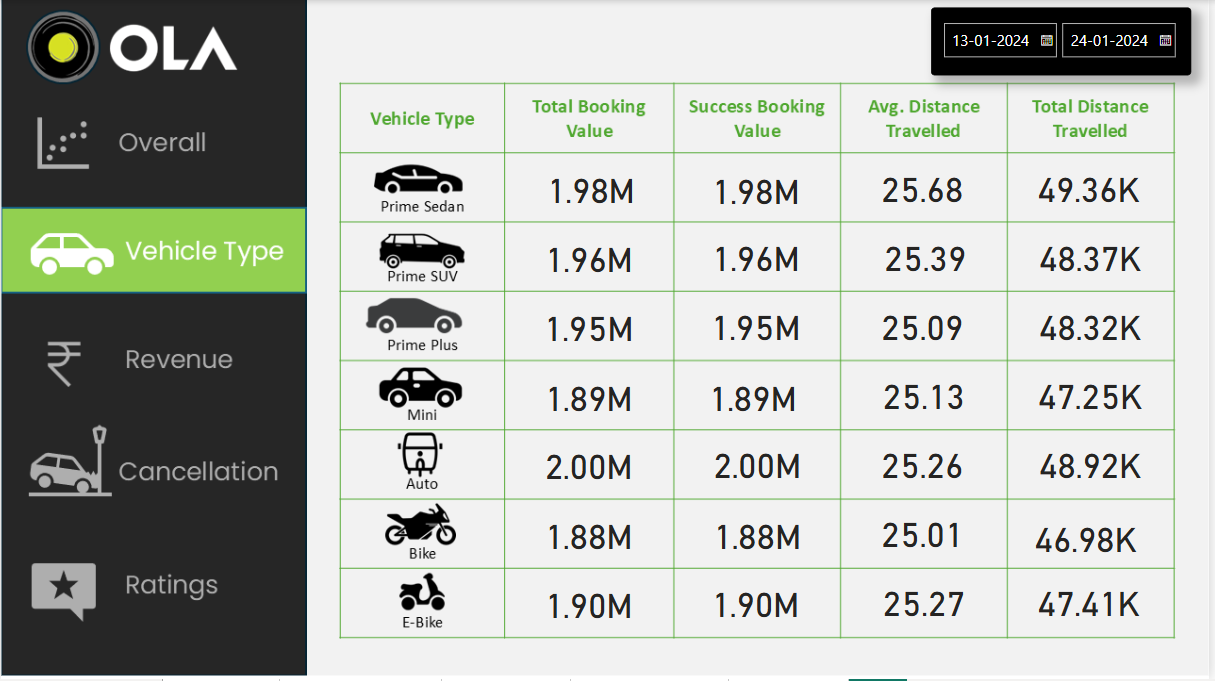

The page's visual inventory and layout, read from the dashboard file:
{"tool":"powerbi","page":{"name":"Vehicle Type","canvas":[1280,720],"ordinal":1},"visuals":[{"type":"actionButton","box":[0,106.7,323.3,90],"z":0},{"type":"actionButton","box":[0,340,323.3,90],"z":1000},{"type":"actionButton","box":[0,446.7,323.3,90],"z":2000},{"type":"actionButton","box":[0,581.7,323.3,90],"z":3000},{"type":"card","fields":{"Values":["Sum(Bengaluru_Ola_Booking_Data.Booking Value)"]},"box":[537.6,165.4,175,66.8],"z":4000},{"type":"card","fields":{"Values":["Sum(Bengaluru_Ola_Booking_Data.Booking Value)"]},"box":[536.7,238.1,173.9,66.1],"z":5000},{"type":"card","fields":{"Values":["Sum(Bengaluru_Ola_Booking_Data.Booking Value)"]},"box":[536,311.8,173.4,66.8],"z":6000},{"type":"card","fields":{"Values":["Sum(Bengaluru_Ola_Booking_Data.Booking Value)"]},"box":[536,386.5,173.4,66.8],"z":7000},{"type":"card","fields":{"Values":["Sum(Bengaluru_Ola_Booking_Data.Booking Value)"]},"box":[536,458.1,173.4,66.8],"z":8000},{"type":"card","fields":{"Values":["Sum(Bengaluru_Ola_Booking_Data.Booking Value)"]},"box":[536,532.9,173.4,66.8],"z":9000},{"type":"card","fields":{"Values":["Sum(Bengaluru_Ola_Booking_Data.Booking Value)"]},"box":[536,606,173.4,66.8],"z":10000},{"type":"card","fields":{"Values":["Sum(Bengaluru_Ola_Booking_Data.Booking Value)"]},"box":[712.1,166.6,174.5,65.5],"z":11000},{"type":"card","fields":{"Values":["Sum(Bengaluru_Ola_Booking_Data.Booking Value)"]},"box":[712.4,604.7,173.9,68],"z":12000},{"type":"card","fields":{"Values":["Sum(Bengaluru_Ola_Booking_Data.Booking Value)"]},"box":[712.1,238,174.5,65.5],"z":13000},{"type":"card","fields":{"Values":["Sum(Bengaluru_Ola_Booking_Data.Booking Value)"]},"box":[712.1,311.4,174.5,65.5],"z":14000},{"type":"card","fields":{"Values":["Sum(Bengaluru_Ola_Booking_Data.Booking Value)"]},"box":[710.1,386.8,174.5,65.5],"z":15000},{"type":"card","fields":{"Values":["Sum(Bengaluru_Ola_Booking_Data.Booking Value)"]},"box":[714.1,458.2,174.5,65.5],"z":16000},{"type":"card","fields":{"Values":["Sum(Bengaluru_Ola_Booking_Data.Booking Value)"]},"box":[714.1,533.6,174.5,65.5],"z":17000},{"type":"card","fields":{"Values":["Avg(Bengaluru_Ola_Booking_Data.Ride Distance)"]},"box":[888.6,164.6,174.5,65.5],"z":18000},{"type":"card","fields":{"Values":["Avg(Bengaluru_Ola_Booking_Data.Ride Distance)"]},"box":[892.6,238,174.5,65.5],"z":19000},{"type":"card","fields":{"Values":["Avg(Bengaluru_Ola_Booking_Data.Ride Distance)"]},"box":[888.6,311.4,174.5,65.5],"z":20000},{"type":"card","fields":{"Values":["Avg(Bengaluru_Ola_Booking_Data.Ride Distance)"]},"box":[890.6,384.8,174.5,65.5],"z":21000},{"type":"card","fields":{"Values":["Avg(Bengaluru_Ola_Booking_Data.Ride Distance)"]},"box":[888.6,458.2,174.5,65.5],"z":22000},{"type":"card","fields":{"Values":["Avg(Bengaluru_Ola_Booking_Data.Ride Distance)"]},"box":[888.6,531.6,174.5,65.5],"z":23000},{"type":"card","fields":{"Values":["Avg(Bengaluru_Ola_Booking_Data.Ride Distance)"]},"box":[890.6,605,174.5,65.5],"z":24000},{"type":"card","fields":{"Values":["Sum(Bengaluru_Ola_Booking_Data.Ride Distance)"]},"box":[1065.1,164.6,174.5,65.5],"z":25000},{"type":"card","fields":{"Values":["Sum(Bengaluru_Ola_Booking_Data.Ride Distance)"]},"box":[1067.1,238,174.5,65.5],"z":26000},{"type":"card","fields":{"Values":["Sum(Bengaluru_Ola_Booking_Data.Ride Distance)"]},"box":[1067.1,311.4,174.5,65.5],"z":27000},{"type":"card","fields":{"Values":["Sum(Bengaluru_Ola_Booking_Data.Ride Distance)"]},"box":[1065.1,605,174.5,65.5],"z":28000},{"type":"card","fields":{"Values":["Sum(Bengaluru_Ola_Booking_Data.Ride Distance)"]},"box":[1067.1,384.8,174.5,65.5],"z":29000},{"type":"card","fields":{"Values":["Sum(Bengaluru_Ola_Booking_Data.Ride Distance)"]},"box":[1067.1,458.2,174.5,65.5],"z":30000},{"type":"card","fields":{"Values":["Sum(Bengaluru_Ola_Booking_Data.Ride Distance)"]},"box":[1063.1,535.5,174.5,65.5],"z":31000},{"type":"slicer","title":"Date","fields":{"Values":["Bengaluru_Ola_Booking_Data.Date"]},"box":[986.5,7.6,275.9,71.8],"z":32000}]}

Visuals, with their boxes on the page's 1280x720 design canvas (x1, y1, x2, y2). These are canvas units, not pixel positions in the 1215x681 screenshot, which may show the page scaled, cropped or inside an application window:
actionButton: left=0, top=107, right=323, bottom=197
actionButton: left=0, top=340, right=323, bottom=430
actionButton: left=0, top=447, right=323, bottom=537
actionButton: left=0, top=582, right=323, bottom=672
card - Sum(Bengaluru_Ola_Booking_Data.Booking Value): left=538, top=165, right=713, bottom=232
card - Sum(Bengaluru_Ola_Booking_Data.Booking Value): left=537, top=238, right=711, bottom=304
card - Sum(Bengaluru_Ola_Booking_Data.Booking Value): left=536, top=312, right=709, bottom=379
card - Sum(Bengaluru_Ola_Booking_Data.Booking Value): left=536, top=386, right=709, bottom=453
card - Sum(Bengaluru_Ola_Booking_Data.Booking Value): left=536, top=458, right=709, bottom=525
card - Sum(Bengaluru_Ola_Booking_Data.Booking Value): left=536, top=533, right=709, bottom=600
card - Sum(Bengaluru_Ola_Booking_Data.Booking Value): left=536, top=606, right=709, bottom=673
card - Sum(Bengaluru_Ola_Booking_Data.Booking Value): left=712, top=167, right=887, bottom=232
card - Sum(Bengaluru_Ola_Booking_Data.Booking Value): left=712, top=605, right=886, bottom=673
card - Sum(Bengaluru_Ola_Booking_Data.Booking Value): left=712, top=238, right=887, bottom=304
card - Sum(Bengaluru_Ola_Booking_Data.Booking Value): left=712, top=311, right=887, bottom=377
card - Sum(Bengaluru_Ola_Booking_Data.Booking Value): left=710, top=387, right=885, bottom=452
card - Sum(Bengaluru_Ola_Booking_Data.Booking Value): left=714, top=458, right=889, bottom=524
card - Sum(Bengaluru_Ola_Booking_Data.Booking Value): left=714, top=534, right=889, bottom=599
card - Avg(Bengaluru_Ola_Booking_Data.Ride Distance): left=889, top=165, right=1063, bottom=230
card - Avg(Bengaluru_Ola_Booking_Data.Ride Distance): left=893, top=238, right=1067, bottom=304
card - Avg(Bengaluru_Ola_Booking_Data.Ride Distance): left=889, top=311, right=1063, bottom=377
card - Avg(Bengaluru_Ola_Booking_Data.Ride Distance): left=891, top=385, right=1065, bottom=450
card - Avg(Bengaluru_Ola_Booking_Data.Ride Distance): left=889, top=458, right=1063, bottom=524
card - Avg(Bengaluru_Ola_Booking_Data.Ride Distance): left=889, top=532, right=1063, bottom=597
card - Avg(Bengaluru_Ola_Booking_Data.Ride Distance): left=891, top=605, right=1065, bottom=670
card - Sum(Bengaluru_Ola_Booking_Data.Ride Distance): left=1065, top=165, right=1240, bottom=230
card - Sum(Bengaluru_Ola_Booking_Data.Ride Distance): left=1067, top=238, right=1242, bottom=304
card - Sum(Bengaluru_Ola_Booking_Data.Ride Distance): left=1067, top=311, right=1242, bottom=377
card - Sum(Bengaluru_Ola_Booking_Data.Ride Distance): left=1065, top=605, right=1240, bottom=670
card - Sum(Bengaluru_Ola_Booking_Data.Ride Distance): left=1067, top=385, right=1242, bottom=450
card - Sum(Bengaluru_Ola_Booking_Data.Ride Distance): left=1067, top=458, right=1242, bottom=524
card - Sum(Bengaluru_Ola_Booking_Data.Ride Distance): left=1063, top=536, right=1238, bottom=601
"Date" slicer: left=986, top=8, right=1262, bottom=79
